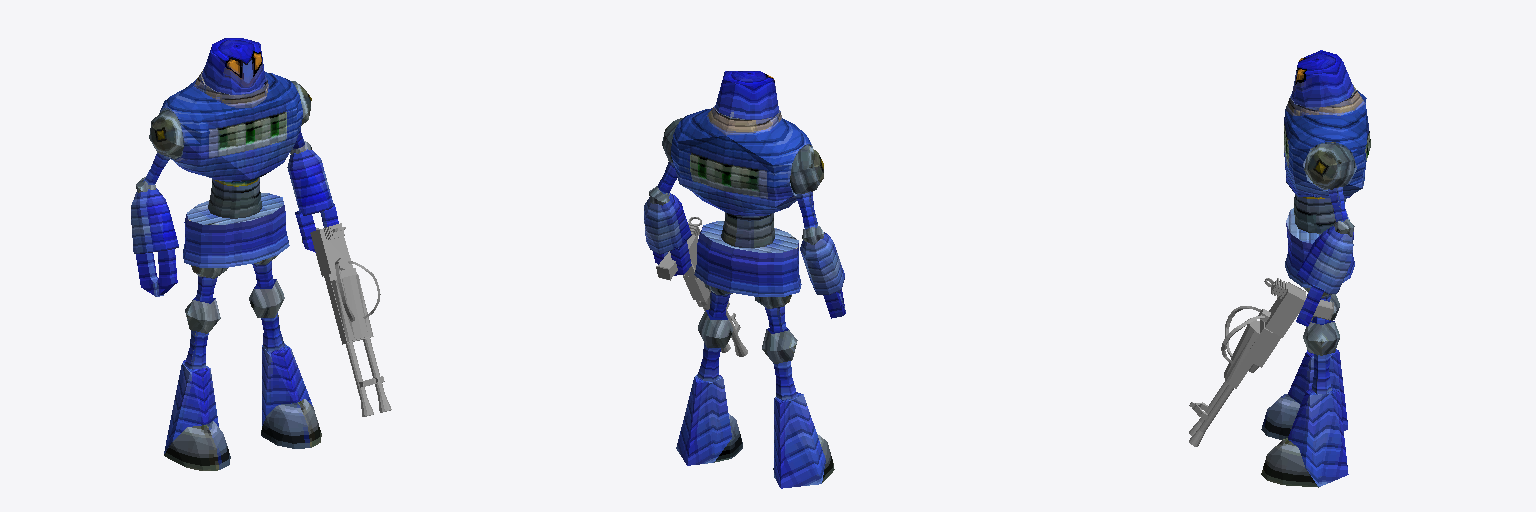
The picture shows the model from 3 angles: view 1: azimuth 30°, elevation 25°; view 2: azimuth 150°, elevation 25°; view 3: azimuth 270°, elevation 25°; orthographic projection.
Parts seen in each view (by area): view 1: Mesh.016_torso, Mesh.015_pelvis, Mesh.006_right_foot, Mesh.003_Blaster, Mesh_left_foot, Mesh.002_head, Mesh.010_right_elbow, Mesh.014_left_elbow, Mesh.004_right_knee, Mesh.013_left_knee, Mesh.008_pincher1, Mesh.007_pincher2; view 2: Mesh.016_torso, Mesh.015_pelvis, Mesh.006_right_foot, Mesh_left_foot, Mesh.002_head, Mesh.014_left_elbow, Mesh.010_right_elbow, Mesh.003_Blaster, Mesh.004_right_knee, Mesh.013_left_knee; view 3: Mesh.016_torso, Mesh_left_foot, Mesh.003_Blaster, Mesh.002_head, Mesh.014_left_elbow, Mesh.006_right_foot, Mesh.015_pelvis, Mesh.013_left_knee, Mesh.011_left_pincger_2.
Boxes of the visible parts, box(x1,y1,x2,y2) form: Mesh.016_torso: box(149, 69, 311, 218); Mesh.015_pelvis: box(183, 193, 289, 267); Mesh.006_right_foot: box(164, 330, 230, 470); Mesh.003_Blaster: box(302, 223, 391, 416); Mesh_left_foot: box(261, 313, 321, 448); Mesh.002_head: box(202, 38, 265, 94); Mesh.010_right_elbow: box(131, 177, 178, 253); Mesh.014_left_elbow: box(287, 141, 333, 215); Mesh.004_right_knee: box(185, 276, 220, 333); Mesh.013_left_knee: box(249, 261, 284, 317); Mesh.008_pincher1: box(156, 249, 177, 295); Mesh.007_pincher2: box(136, 253, 163, 296); Mesh.016_torso: box(662, 106, 823, 247); Mesh.015_pelvis: box(694, 221, 801, 296); Mesh.006_right_foot: box(773, 361, 834, 488); Mesh_left_foot: box(676, 343, 742, 465); Mesh.002_head: box(715, 71, 778, 119); Mesh.014_left_elbow: box(644, 186, 691, 254); Mesh.010_right_elbow: box(800, 226, 844, 294); Mesh.003_Blaster: box(656, 217, 747, 356); Mesh.004_right_knee: box(762, 306, 797, 363); Mesh.013_left_knee: box(698, 291, 732, 347); Mesh.016_torso: box(1284, 85, 1370, 233); Mesh_left_foot: box(1261, 354, 1348, 487); Mesh.003_Blaster: box(1189, 278, 1333, 446); Mesh.002_head: box(1291, 50, 1354, 106); Mesh.014_left_elbow: box(1297, 219, 1354, 294); Mesh.006_right_foot: box(1261, 349, 1347, 439); Mesh.015_pelvis: box(1285, 208, 1354, 288); Mesh.013_left_knee: box(1303, 295, 1339, 355); Mesh.011_left_pincger_2: box(1296, 285, 1324, 326).
Size of the model in its own units: 8.07 by 15.48 by 6.52.
Materials: 2 (1 with a texture image).